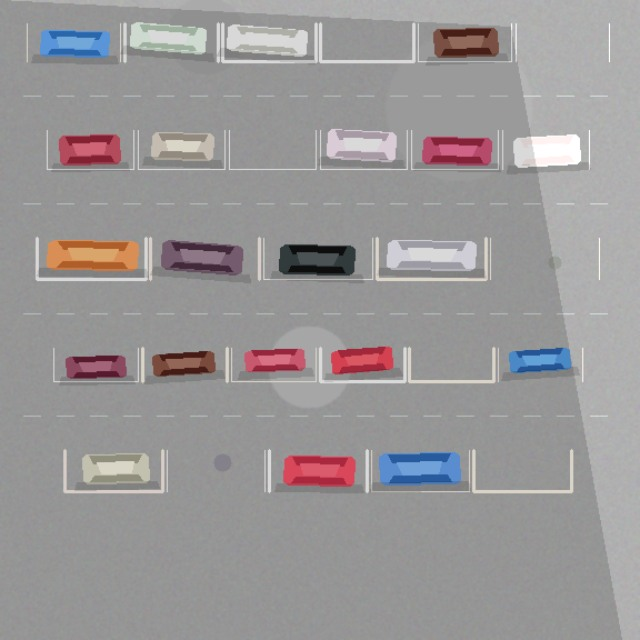space-empty: (490, 238, 599, 279), (473, 450, 571, 491), (167, 450, 264, 491), (320, 23, 413, 61), (516, 23, 609, 61), (229, 130, 316, 169), (409, 348, 493, 381)
space-occupied: (37, 238, 146, 279), (150, 238, 259, 279), (263, 238, 372, 279), (377, 238, 486, 279), (64, 450, 162, 491), (269, 450, 367, 491), (371, 450, 469, 491), (124, 23, 218, 61), (222, 23, 316, 61), (27, 23, 120, 61), (418, 23, 511, 61), (320, 130, 407, 169), (411, 130, 498, 169), (502, 130, 589, 169), (47, 130, 133, 169), (138, 130, 224, 169), (53, 348, 138, 381), (142, 348, 227, 381), (231, 348, 316, 381), (320, 348, 404, 381), (498, 348, 582, 381)
